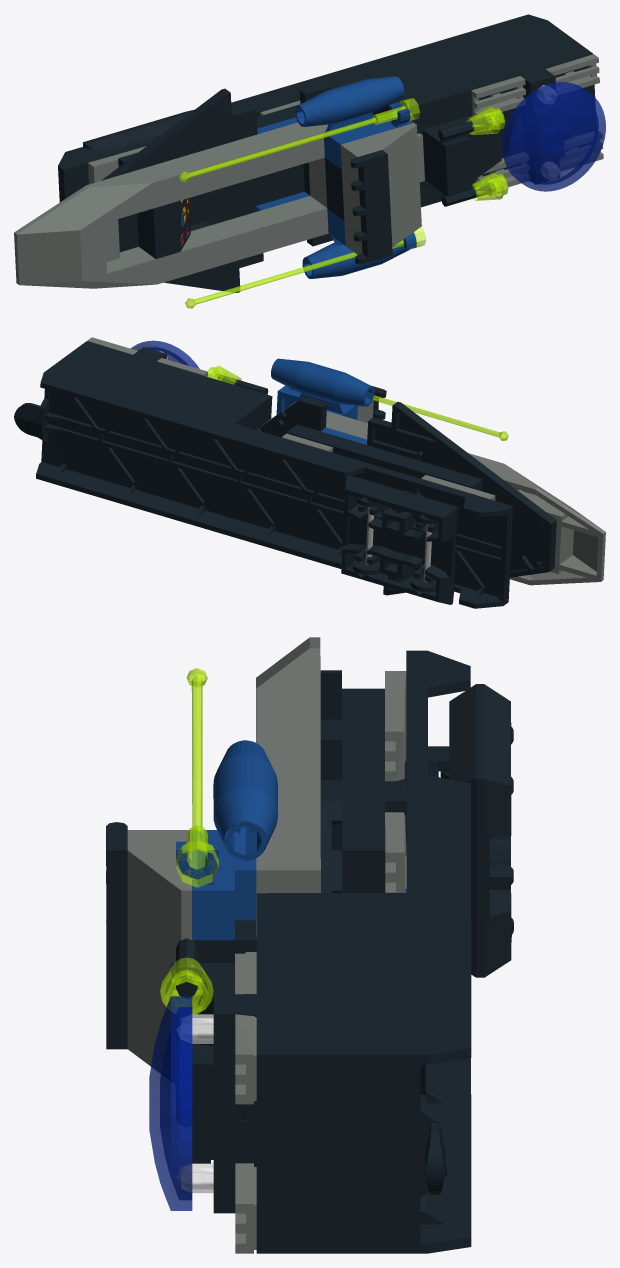
The model's file is rear-coach.glb.
The picture shows the model from 3 angles, top to bottom: view 1: azimuth 30°, elevation 25°; view 2: azimuth 150°, elevation 25°; view 3: azimuth 270°, elevation 25°; orthographic projection. The views are drawn at different scales.
Bounding box in the file's own units: 192 × 62.95 × 60.79.
